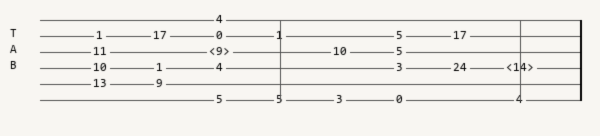0: (216, 30, 227, 42), (396, 94, 407, 106)
1: (96, 30, 107, 42), (156, 62, 167, 74), (276, 30, 287, 42)
10: (93, 62, 111, 74), (333, 46, 351, 58)
11: (93, 46, 111, 58)
13: (93, 78, 111, 90)
17: (153, 30, 171, 42), (453, 30, 471, 42)
24: (453, 62, 471, 74)
3: (336, 94, 347, 106), (396, 62, 407, 74)
4: (216, 14, 227, 26), (216, 62, 227, 74), (516, 94, 527, 106)
5: (216, 94, 227, 106), (276, 94, 287, 106), (396, 30, 407, 42), (396, 46, 407, 58)
9: (156, 78, 167, 90)
harmonic: (506, 62, 538, 74), (209, 46, 234, 58)
